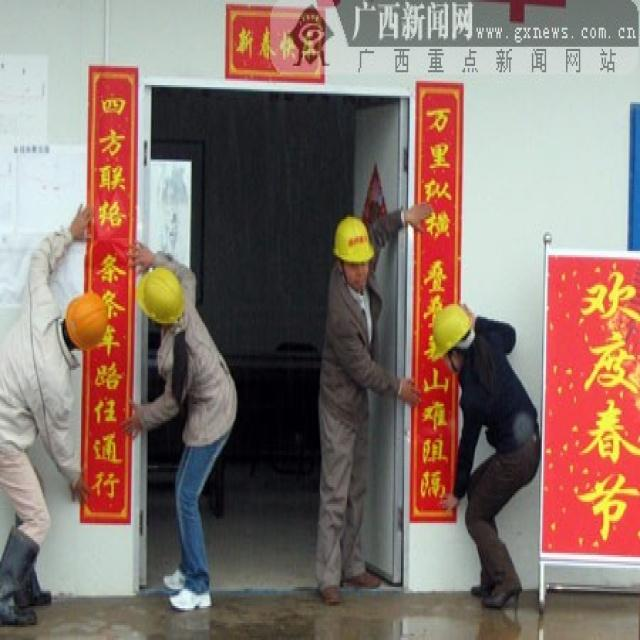helmet: (331, 286, 377, 394), (429, 403, 476, 501), (136, 355, 186, 445), (60, 388, 108, 481)
